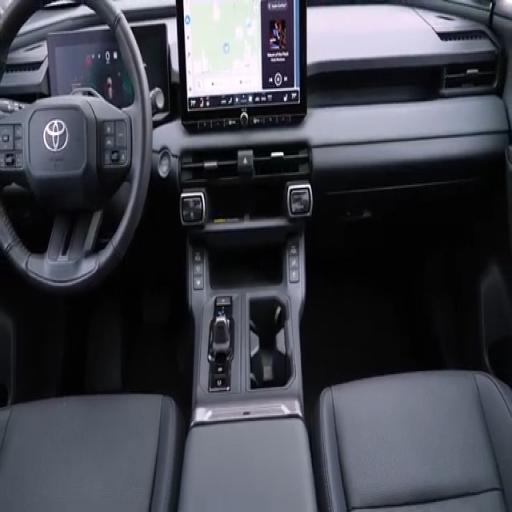emblem: (44, 120, 68, 152)
